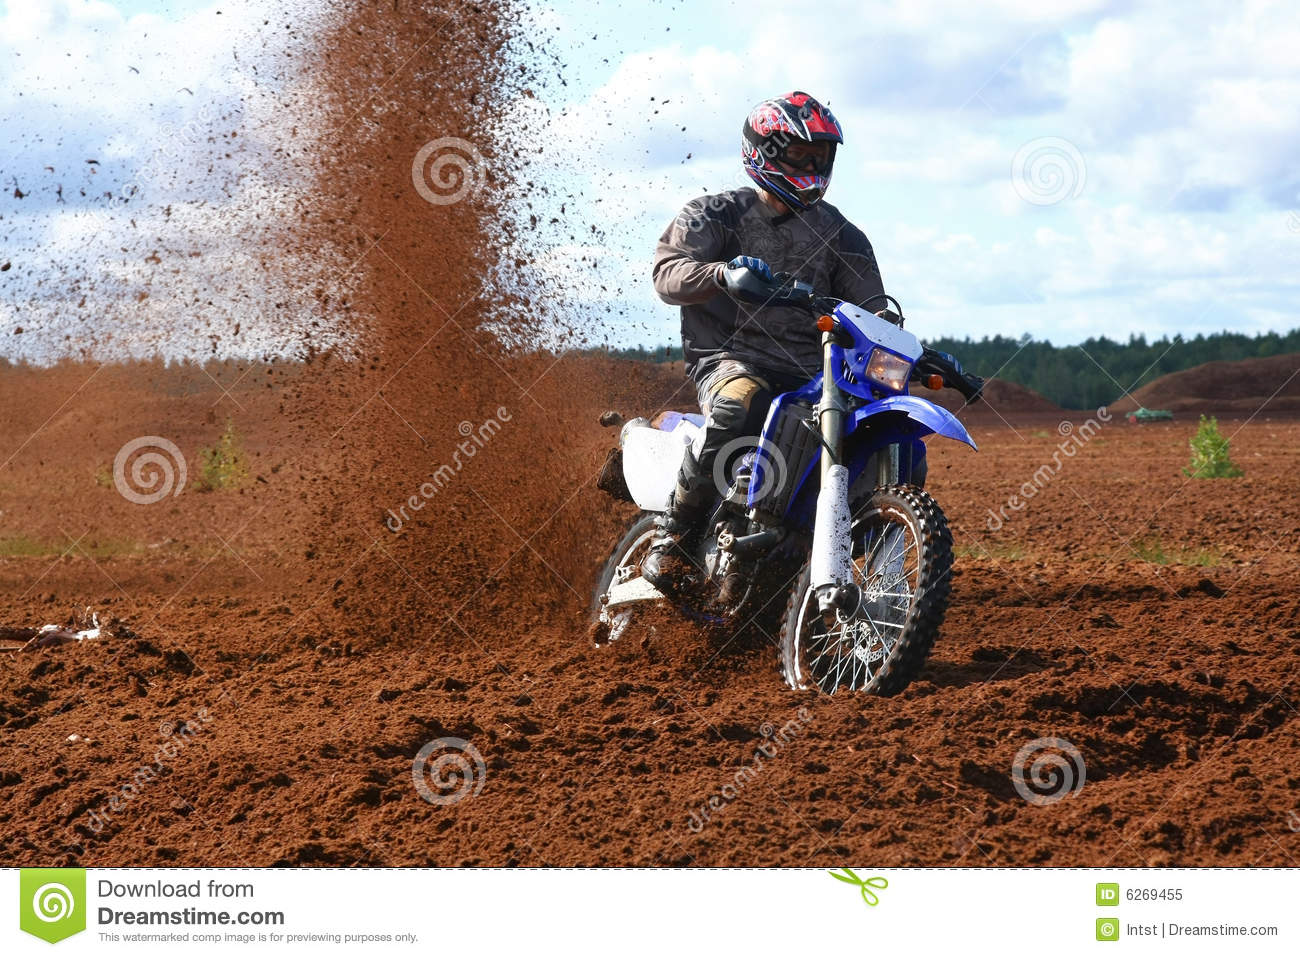helmet: (742, 88, 842, 208)
